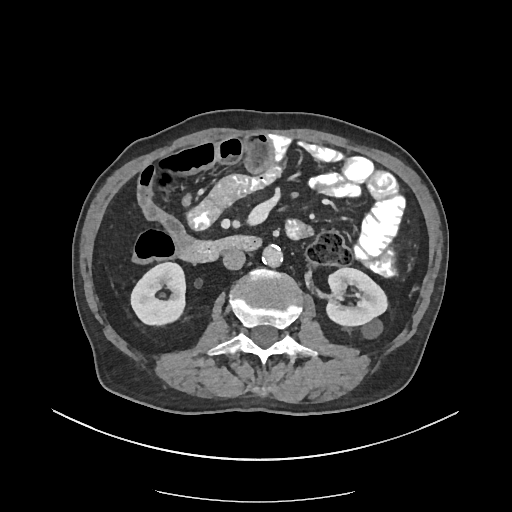Lesion: (356, 315, 387, 341)
